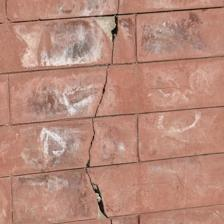Crack: (4, 64, 198, 148), (9, 0, 60, 119)
